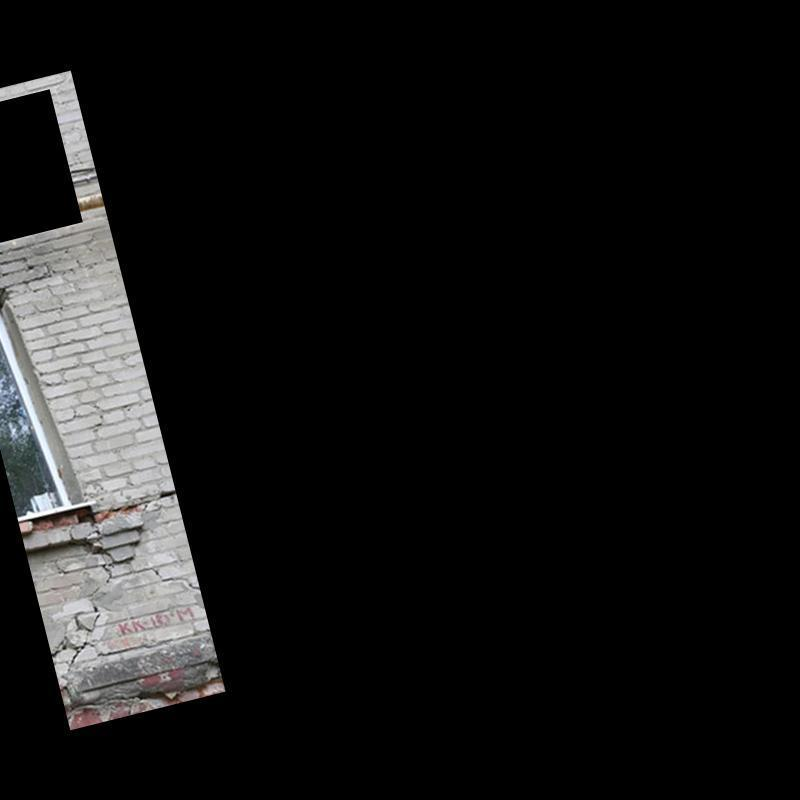pothole: (51, 586, 216, 671), (63, 683, 180, 710), (101, 563, 201, 590)
